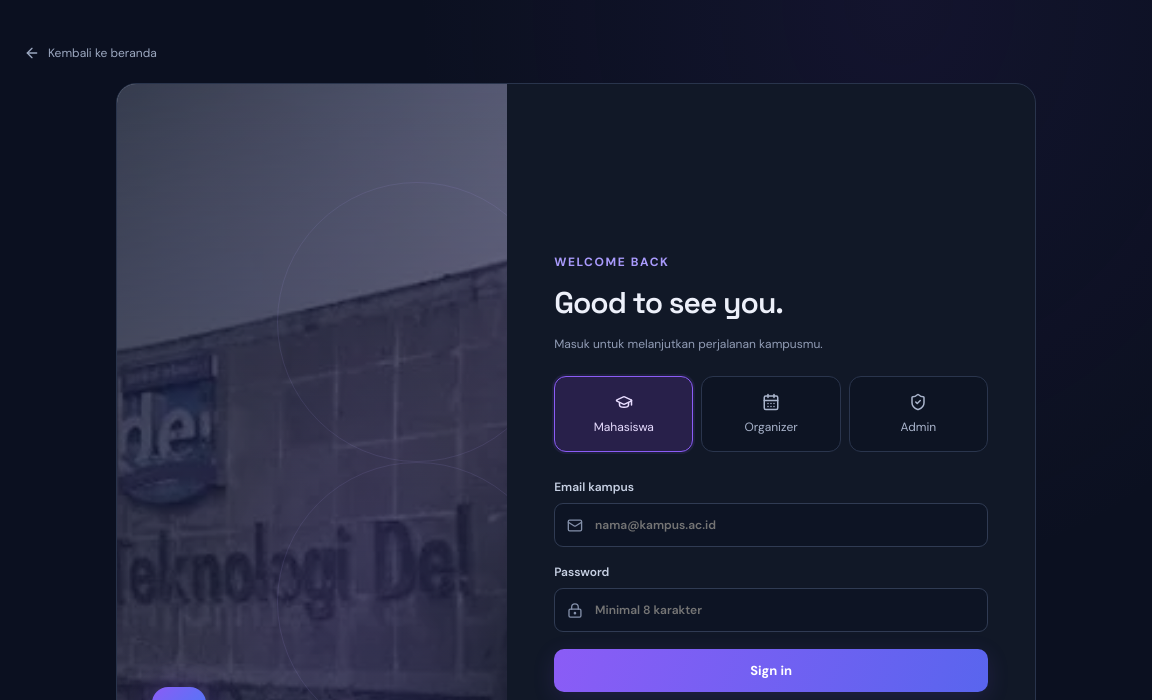
it: AuthPage › mengisi email dan password demo admin
Click the button "Admin": click(918, 414) [849,376,988,452]
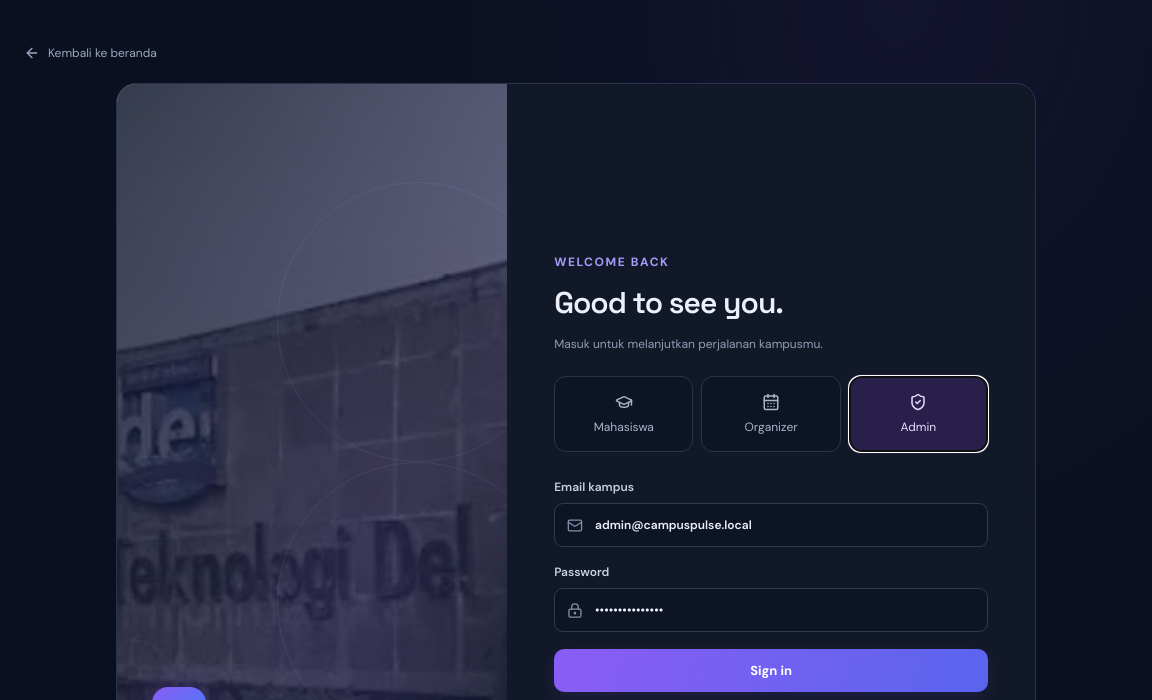
Expected: the field labelled "Email kampus" holds "admin@campuspulse.local", [593,516,975,534]
Expected: the password field labelled "Password" holds "CampusPulse123!", [593,602,975,620]
